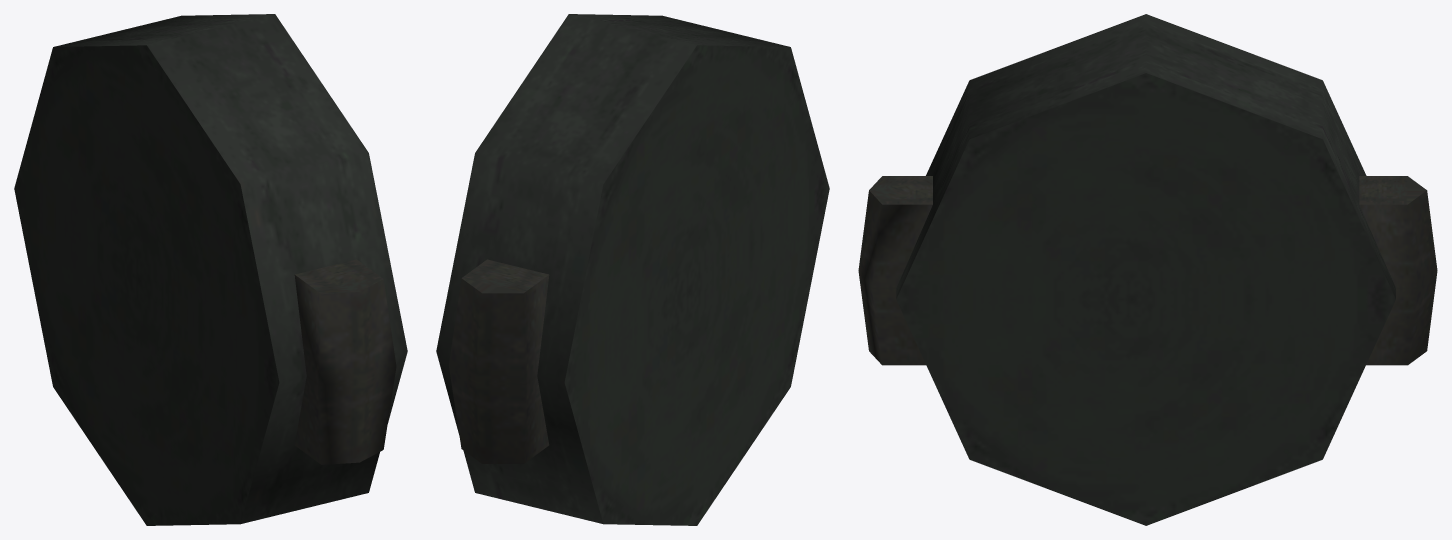
The model's file is com_pipe_coupling_metal_lod1.glb.
3 renders of one model, left to right at view 1: azimuth 30°, elevation 25°; view 2: azimuth 150°, elevation 25°; view 3: azimuth 270°, elevation 25°, orthographic. The views are drawn at different scales.
Visible parts, largest first — view 1: surf0; view 2: surf0; view 3: surf0.
Boxes of the visible parts, x1,y1,x2,y2 form: surf0: [14, 14, 407, 525]; surf0: [436, 14, 829, 525]; surf0: [858, 14, 1437, 525].
Size of the model in its own units: 5.13 by 18.36 by 21.27.
